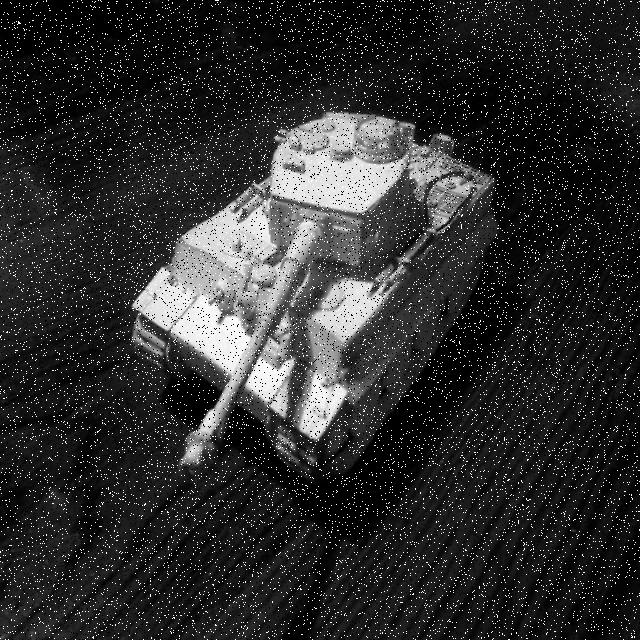MIL_MBT: (131, 106, 500, 482)
